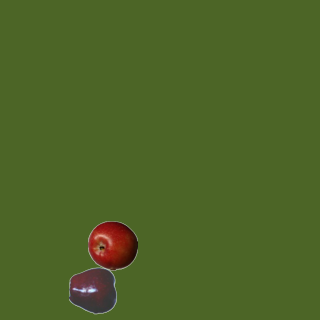Apple Braeburn: (87, 220, 137, 270)
Apple Red Delicious: (68, 265, 118, 315)
